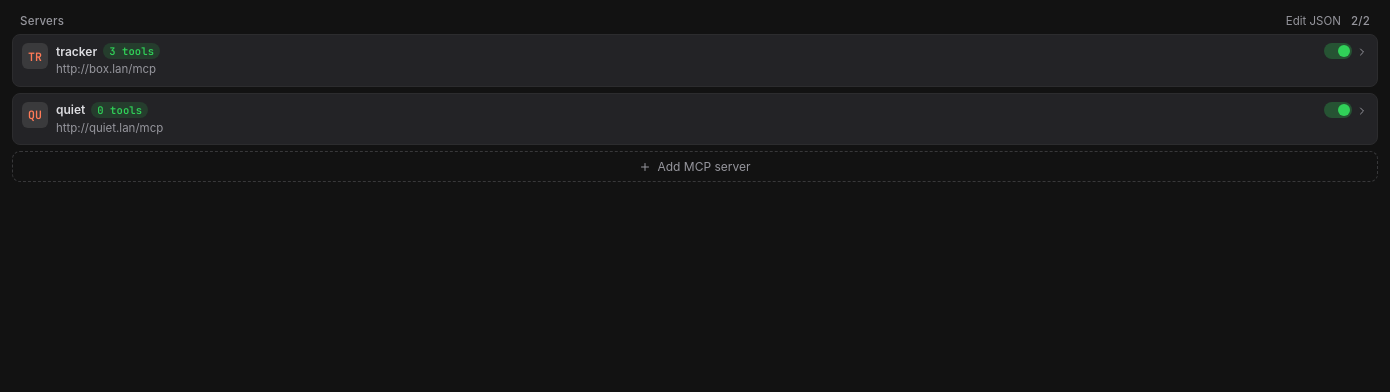
Scenario: the MCP tab › a running server's row shows what it says about its tools and what it tells the model
Click the text "http://box.lan/mcp". click: [106, 69]
box: x1=56 y1=62 x2=156 y2=76
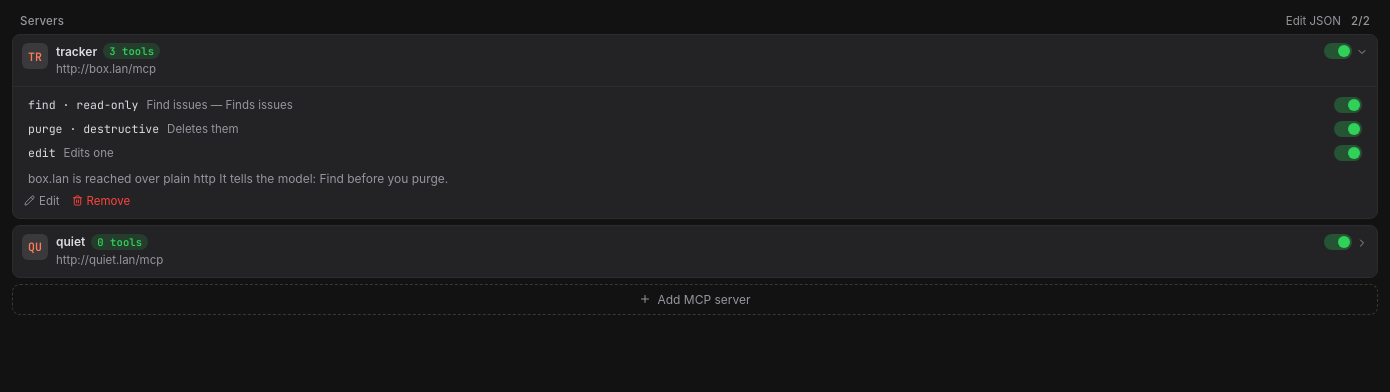
Check: the text "find · read-only" is shown, box x1=28 y1=97 x2=138 y2=112
Check: the text "Find issues — Finds issues" is shown, box x1=146 y1=98 x2=293 y2=112
Check: the text "purge · destructive" is shown, box x1=28 y1=121 x2=159 y2=136
Click the text "http://quiet.lan/mcp". click: [110, 260]
box: x1=56 y1=253 x2=163 y2=267
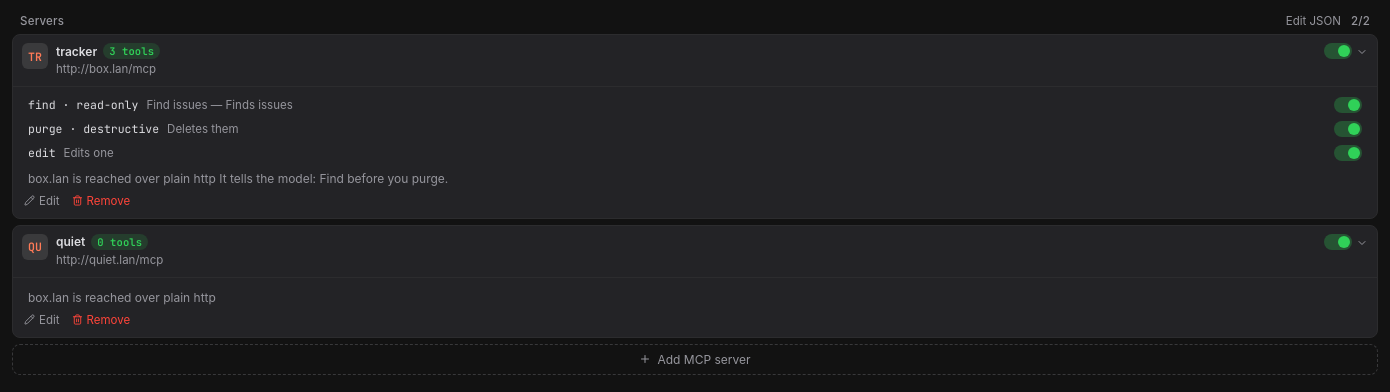
Check: the text "It tells the model" is shown once, box x1=28 y1=171 x2=448 y2=186
Check: the text "box.lan is reached over plain http" is shown 2 times, box x1=28 y1=171 x2=448 y2=186; x1=28 y1=290 x2=216 y2=304
